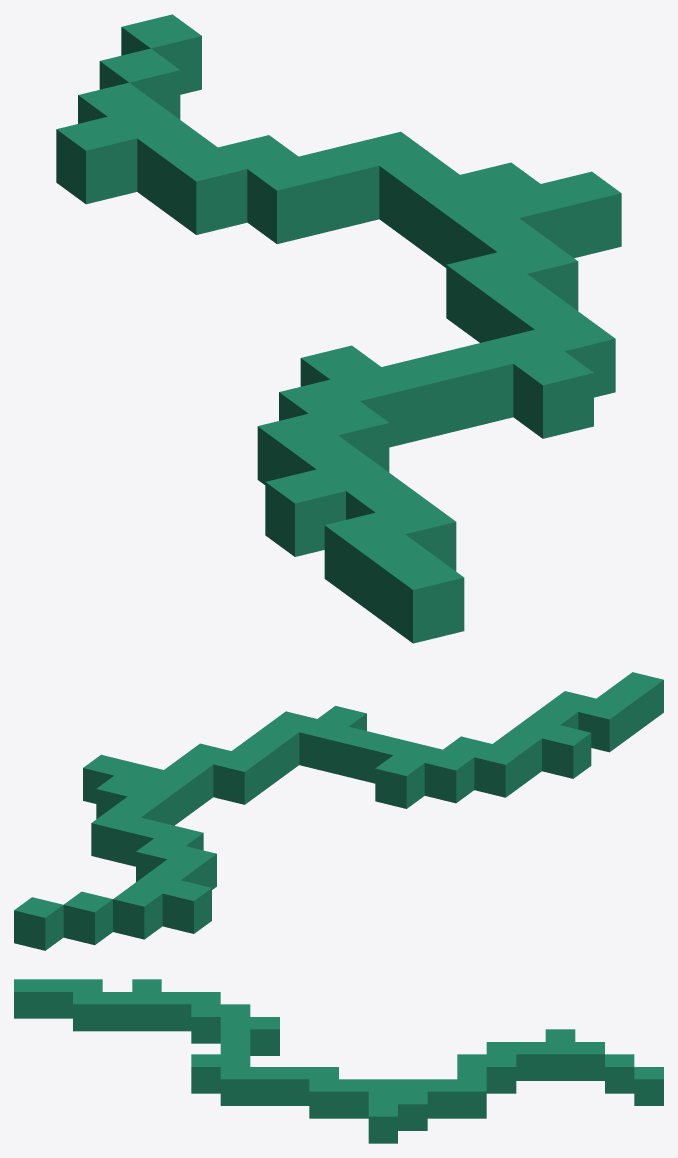
Rendered from vine1.obj.
3 views of the same model, one above another, from view 1: azimuth 30°, elevation 25°; view 2: azimuth 150°, elevation 25°; view 3: azimuth 270°, elevation 25° (orthographic). The views are drawn at different scales.
Bounding box in the file's own units: 1.1 × 0.1 × 2.2.
1 material, 1 textured.
